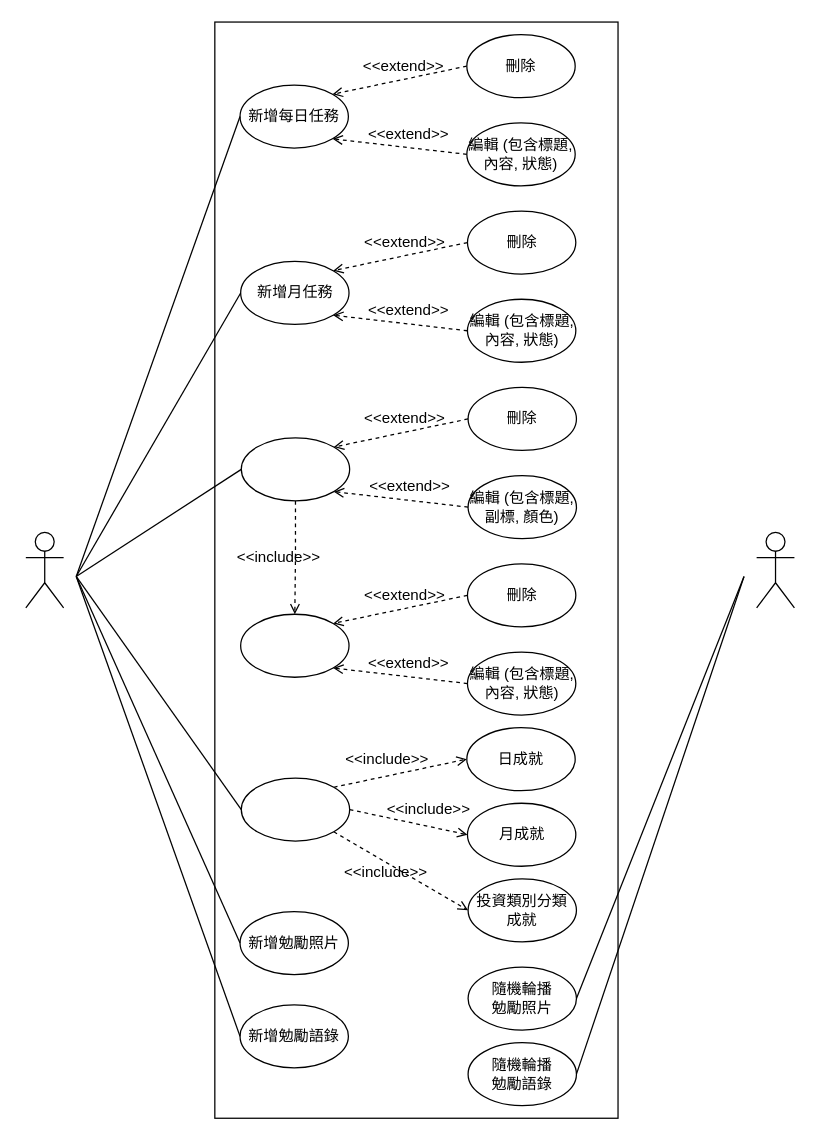
This 816x1140 diagram has some shape labels left out. The centre of each missing label's shape, as x and y in pixels:
"使用者" belongs at pixel 44 569.
"新增投資卡片" belongs at pixel 294 645.
"新增投資類別" belongs at pixel 295 469.
"檢視成就" belongs at pixel 295 809.
"系統" belongs at pixel 774 569.
